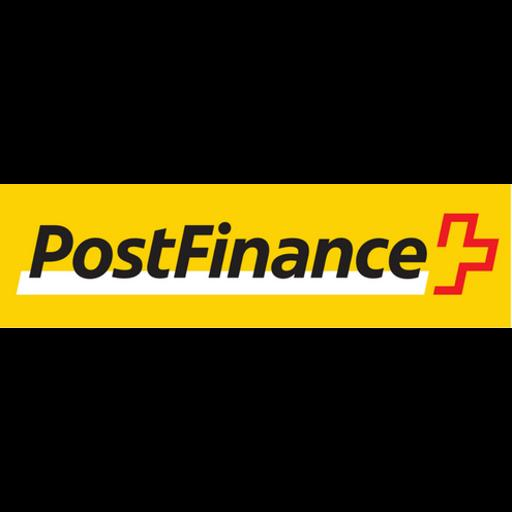PostFinance: (0, 184, 512, 328)
